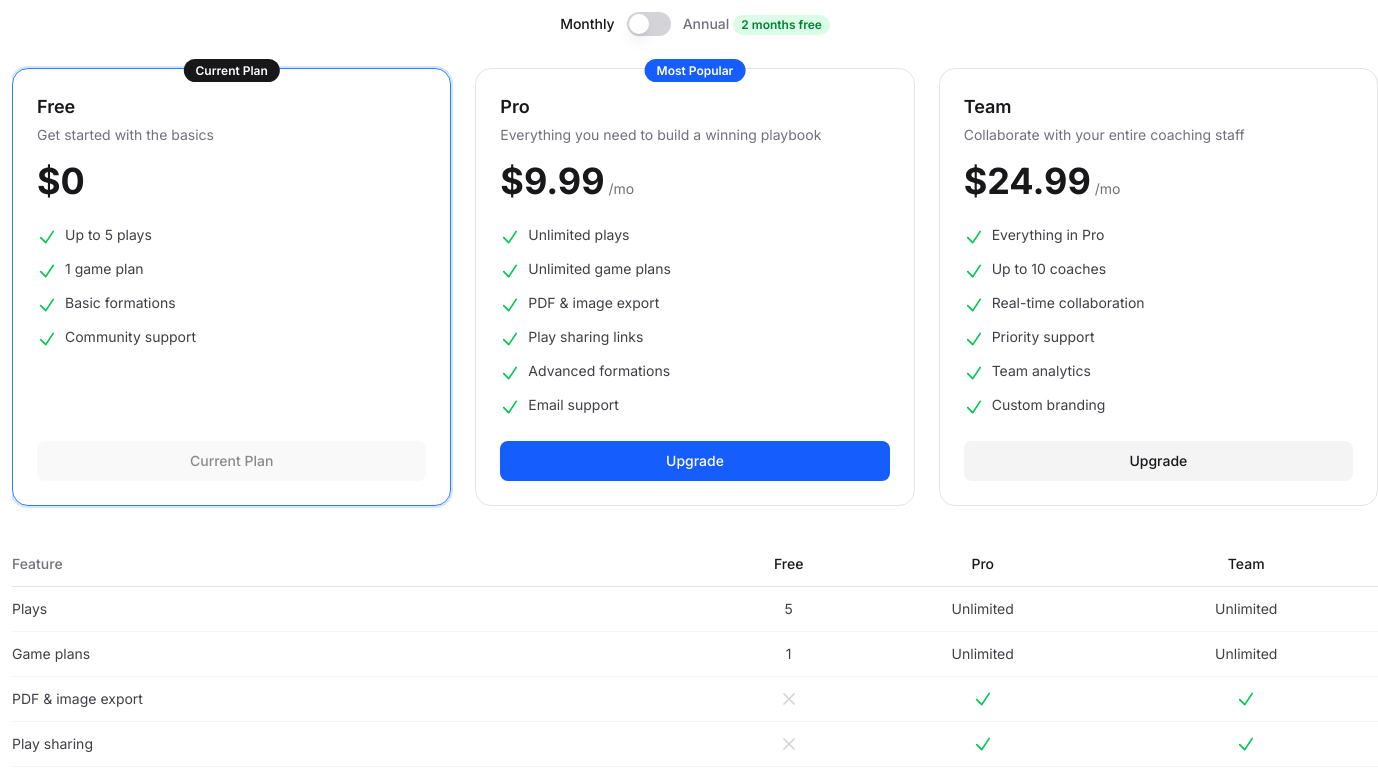
it: PricingTable › toggles back to monthly
Note: Switch to annual
Click the switch with test id "billing-toggle": (649,24) [627,12,671,36]
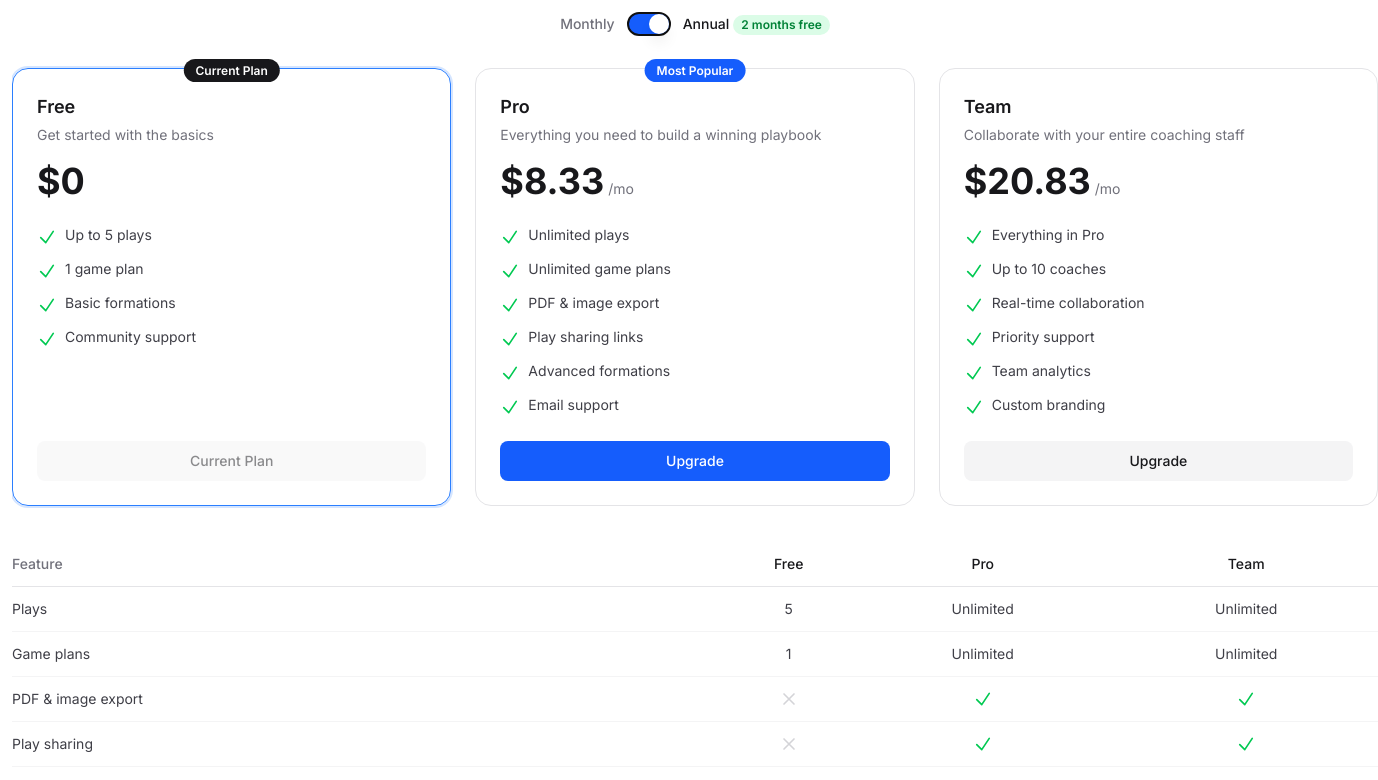
Result: the element with test id "plan-card-pro" shows "$8.33" at [500,159,604,203]
Note: Switch back to monthly
Click the switch with test id "billing-toggle": (649,24) [627,12,671,36]
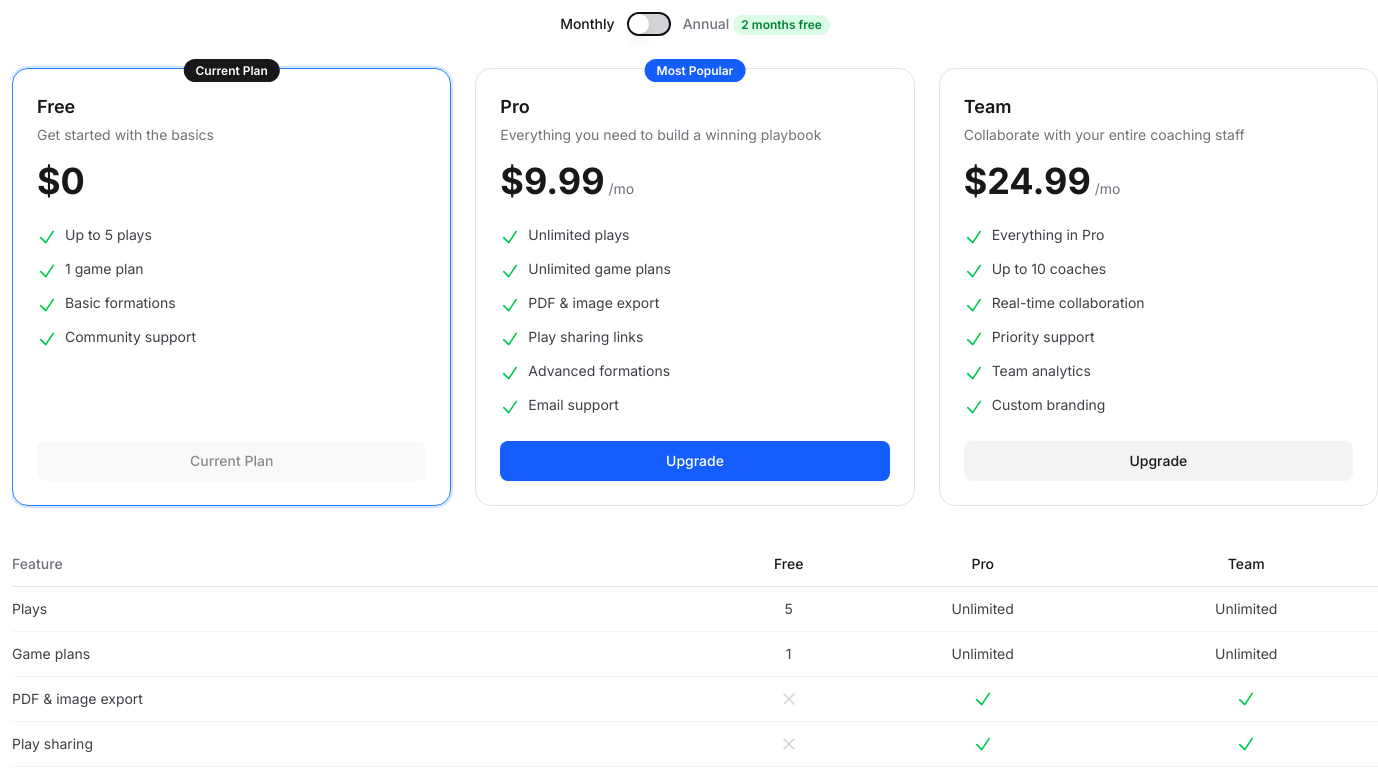
Result: the element with test id "plan-card-pro" shows "$9.99" at [500,159,604,203]
